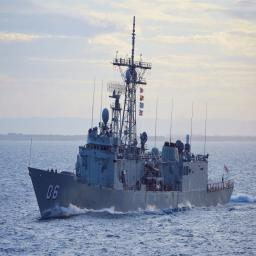Fragata: (30, 18, 236, 221)
